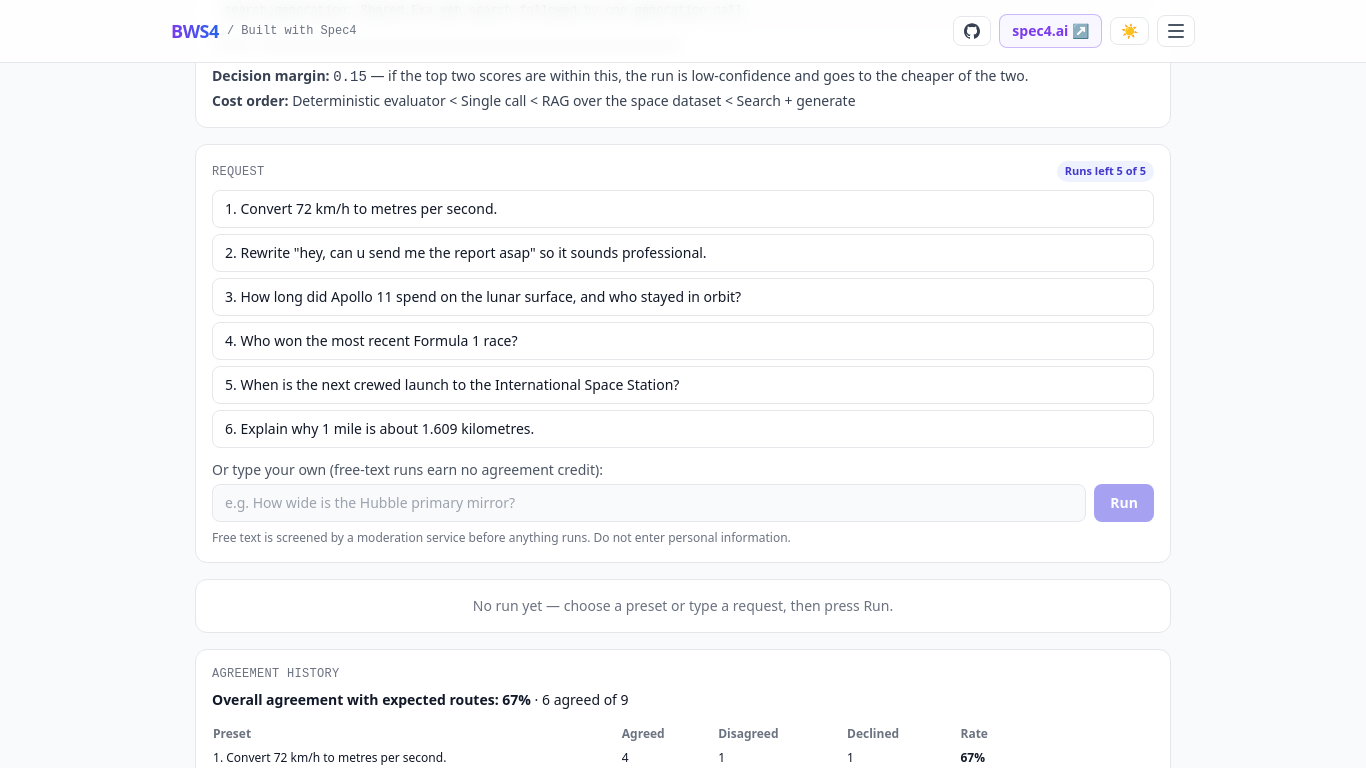
it: a run refused as not ready › spends nothing and switches the page to its unavailable state
This screenshot has width=1366, height=768.
(page scrolled)
Click the button "next crewed launch" at (460, 384), box [212,366,1154,404]
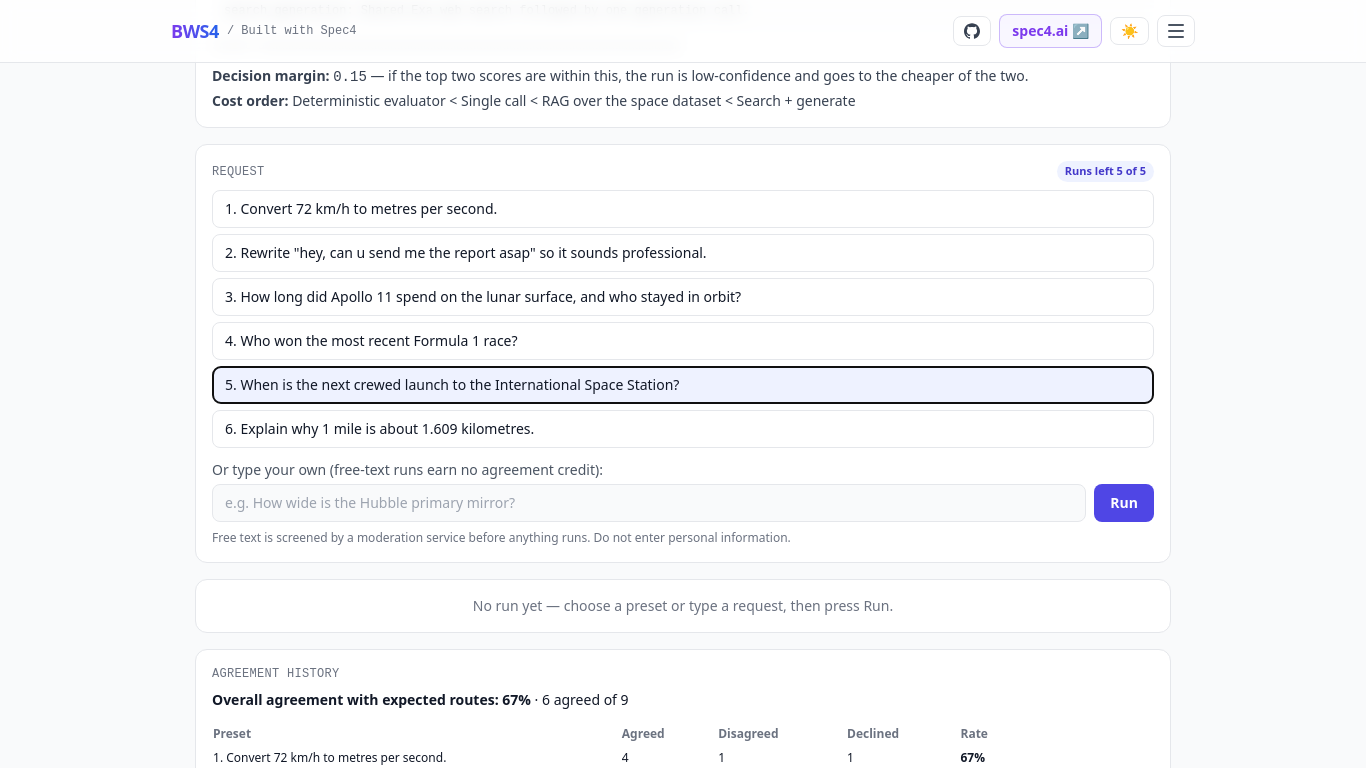
Click the button "Run" at (1124, 503), box [1094,484,1154,522]
(page scrolled)
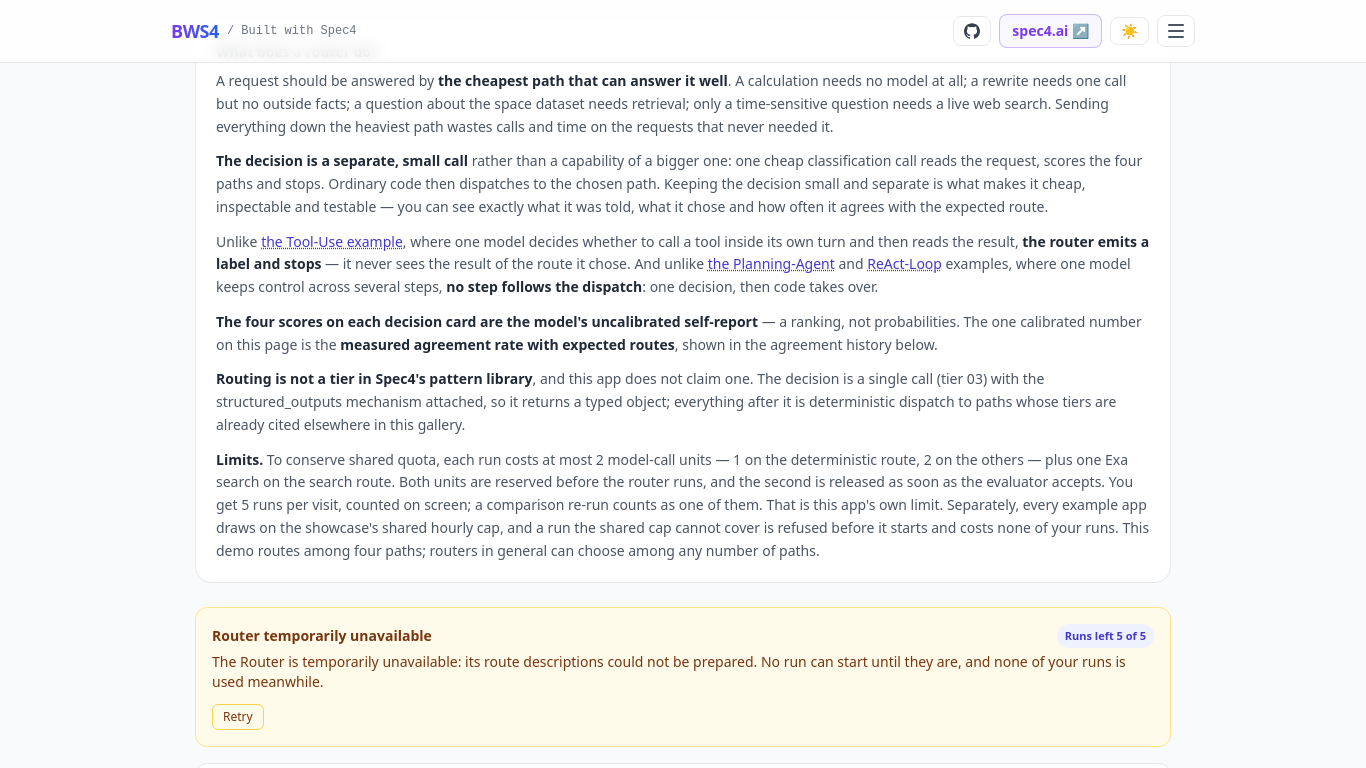
Expected: the text with test id "runs-remaining" reads "Runs left 5 of 5", [1057,624,1154,648]
Expected: the message with test id "router-unavailable" shows "temporarily unavailable", [212,626,432,645]
